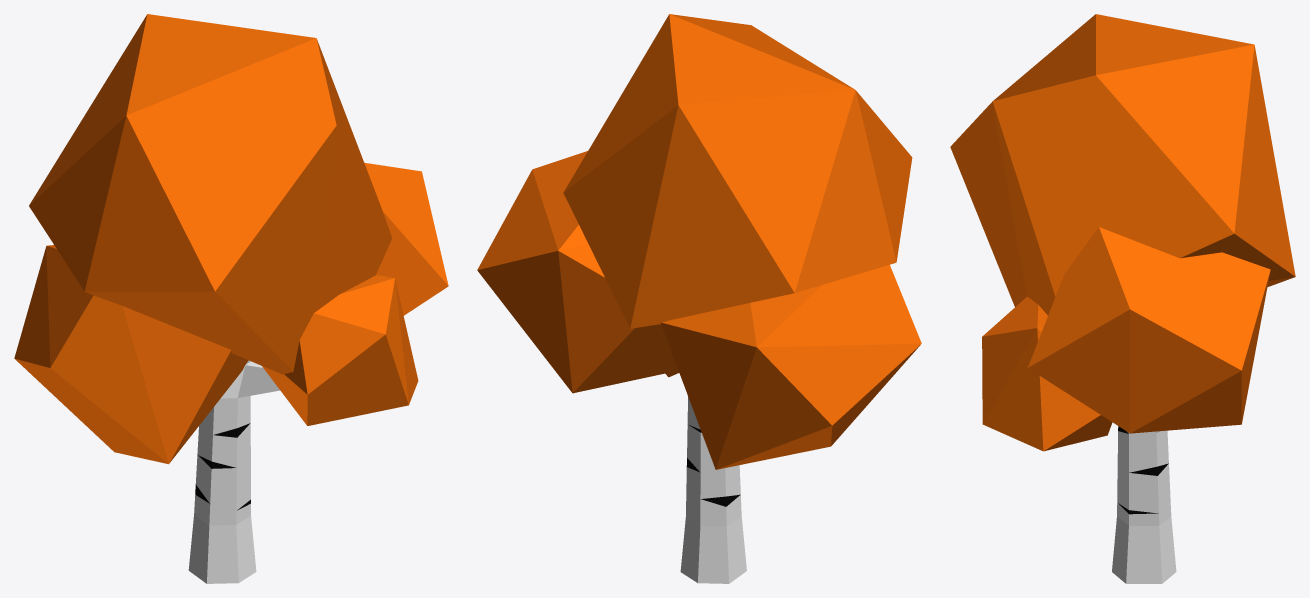
Rendered from tree4.fbx.
The picture shows the model from 3 angles, left to right: view 1: azimuth 30°, elevation 25°; view 2: azimuth 150°, elevation 25°; view 3: azimuth 270°, elevation 25°; orthographic projection. The views are drawn at different scales.
Visible parts, largest first — view 1: tree4; view 2: tree4; view 3: tree4.
Boxes of the visible parts, x1=… form: tree4: x1=14, y1=14, x2=448, y2=583; tree4: x1=477, y1=14, x2=921, y2=583; tree4: x1=950, y1=14, x2=1295, y2=583.
Bounding box in the file's own units: 4.54 × 6.02 × 3.55.
